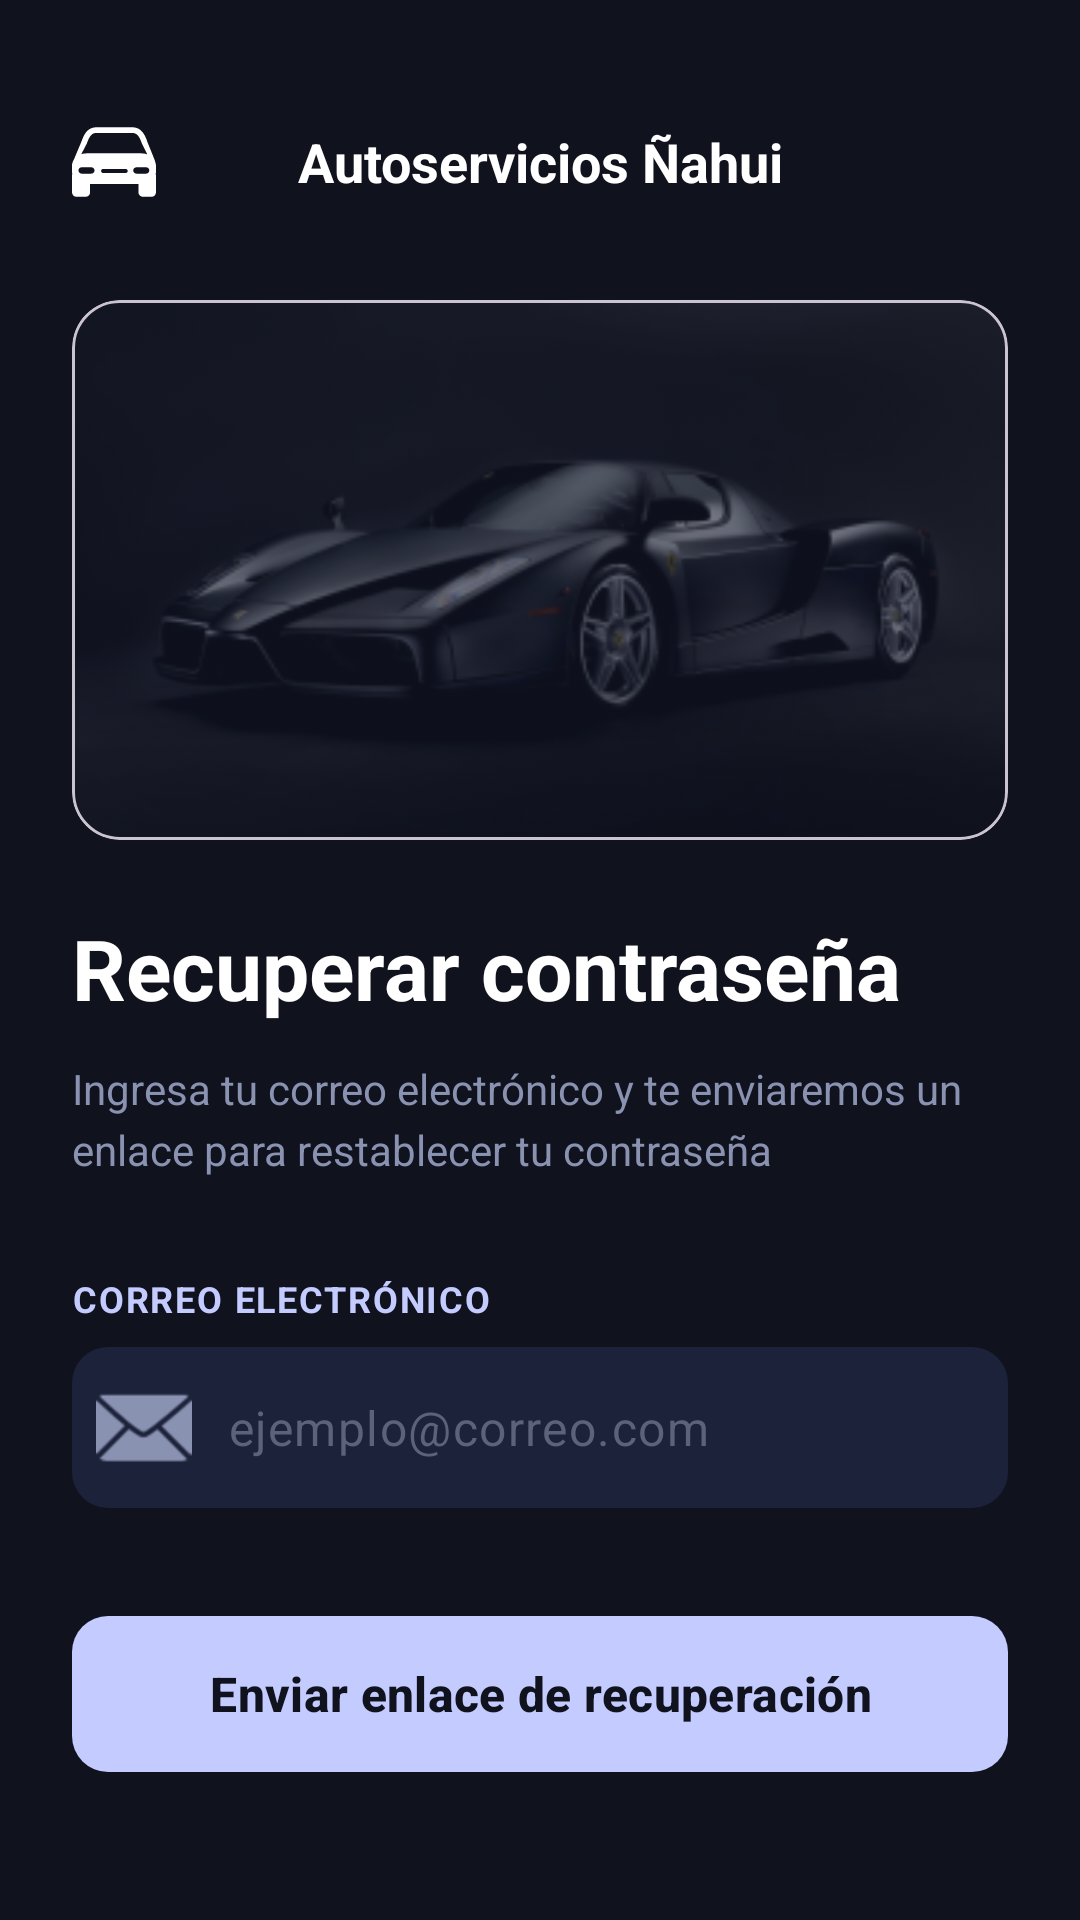

Named icons in this screenshot (1080 x 1920) and their centers, (x,y):
car: (114,162)
